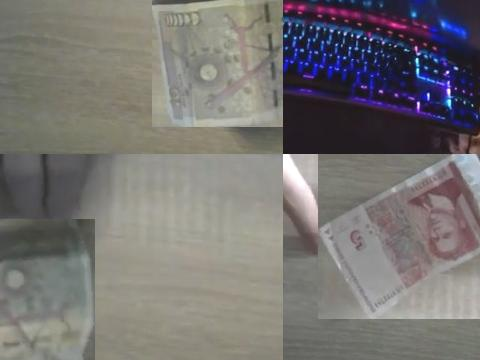10leva: (0, 219, 95, 360)
5leva: (318, 154, 480, 319)
